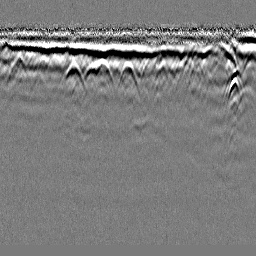cavity: (115, 59, 140, 97)
